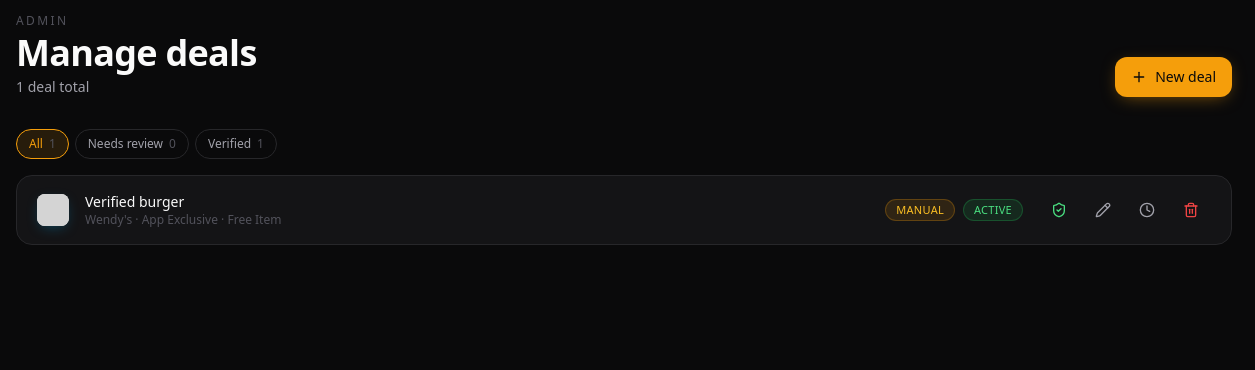
Test: AdminDealsPage — review queue › shows the all-caught-up empty state when nothing needs review
Click the button "Needs review0" at (132, 144), box [75,129,189,159]
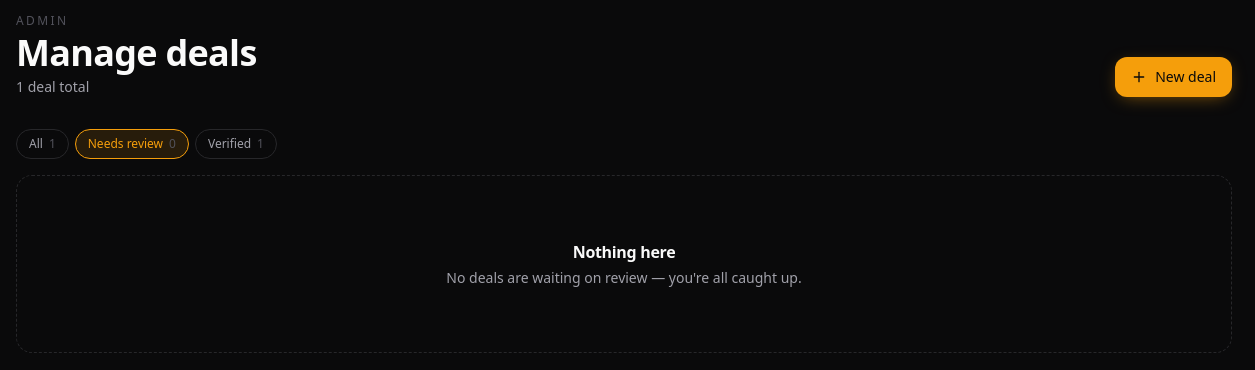
Expected: the text "No deals are waiting on review — you're all caught up." is shown, [446,268,802,287]
